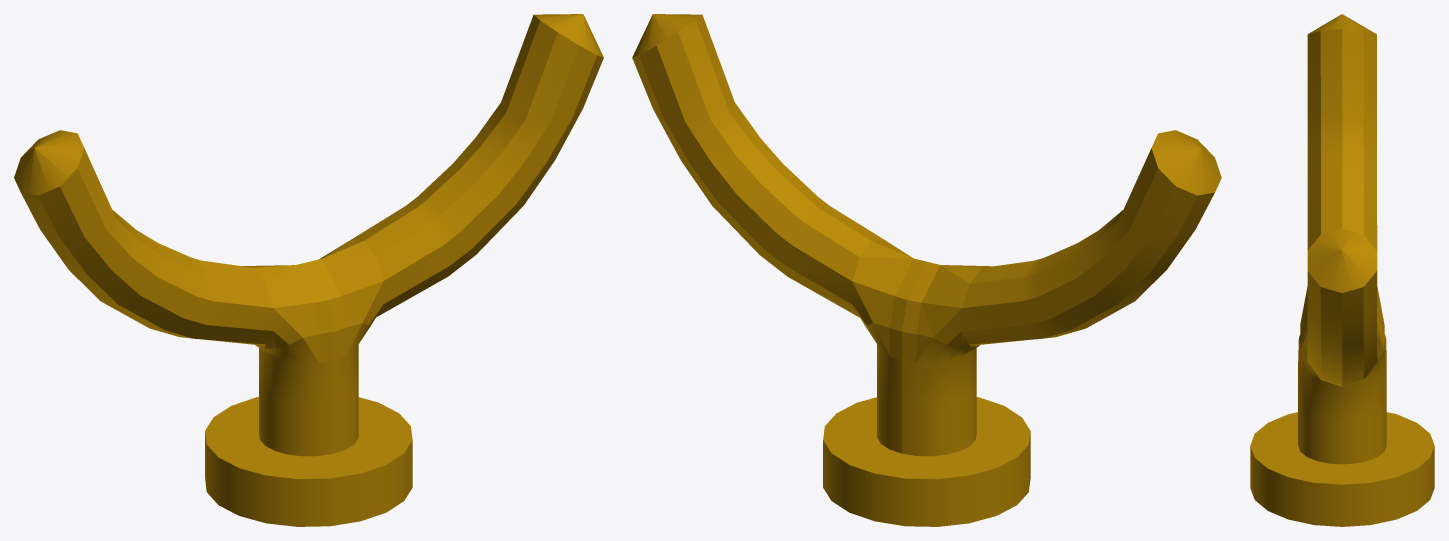
The model's file is slingshot.fbx.
The picture shows the model from 3 angles, left to right: view 1: azimuth 30°, elevation 25°; view 2: azimuth 150°, elevation 25°; view 3: azimuth 270°, elevation 25°; orthographic projection. The views are drawn at different scales.
Parts seen in each view (by area): view 1: polySurface1, pCylinder2; view 2: polySurface1, pCylinder2; view 3: polySurface1, pCylinder2.
Boxes of the visible parts, x1,y1,x2,y2 form: polySurface1: (14, 14, 603, 456); pCylinder2: (205, 397, 412, 526); polySurface1: (632, 14, 1221, 456); pCylinder2: (823, 397, 1030, 526); polySurface1: (1298, 14, 1386, 464); pCylinder2: (1250, 412, 1434, 526).
Bounding box in the file's own units: 13.28 × 8.94 × 4.16.
